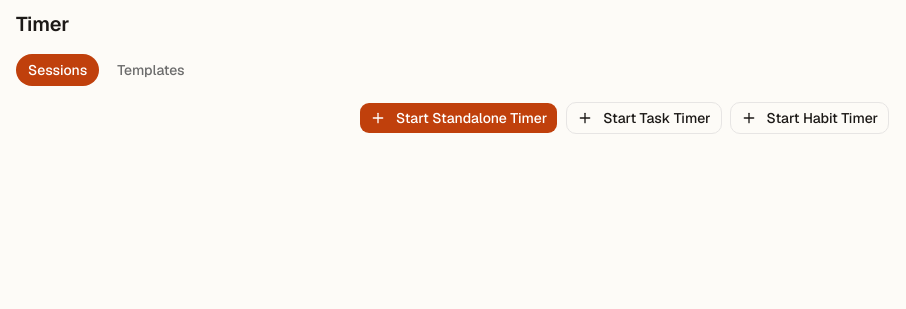
Test: TimerPageContent › switches to the template manager on the Templates tab
Click the tab "Templates": (151, 70) [105,54,197,86]
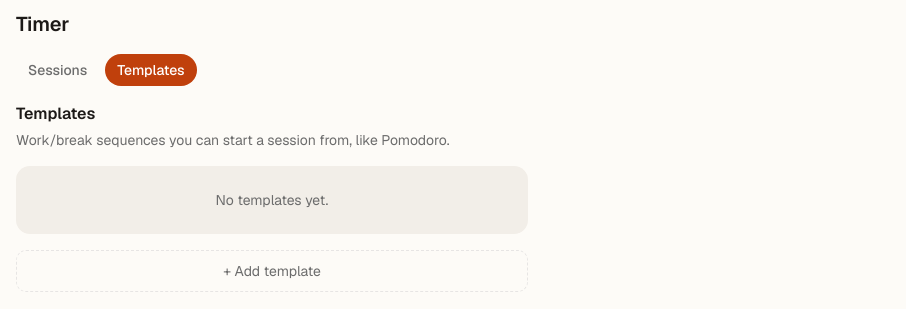
expect the text "No templates yet." is shown: met, box [16,166,528,234]
